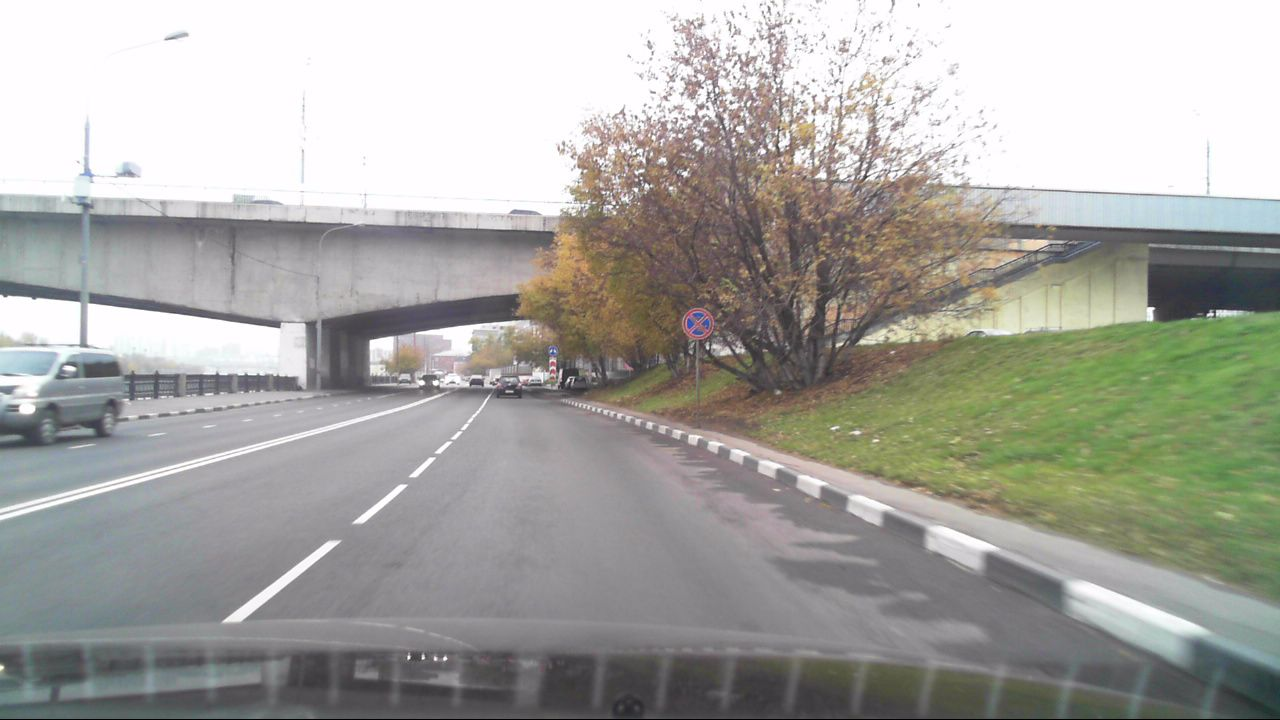No Parking: (681, 306, 713, 338)
